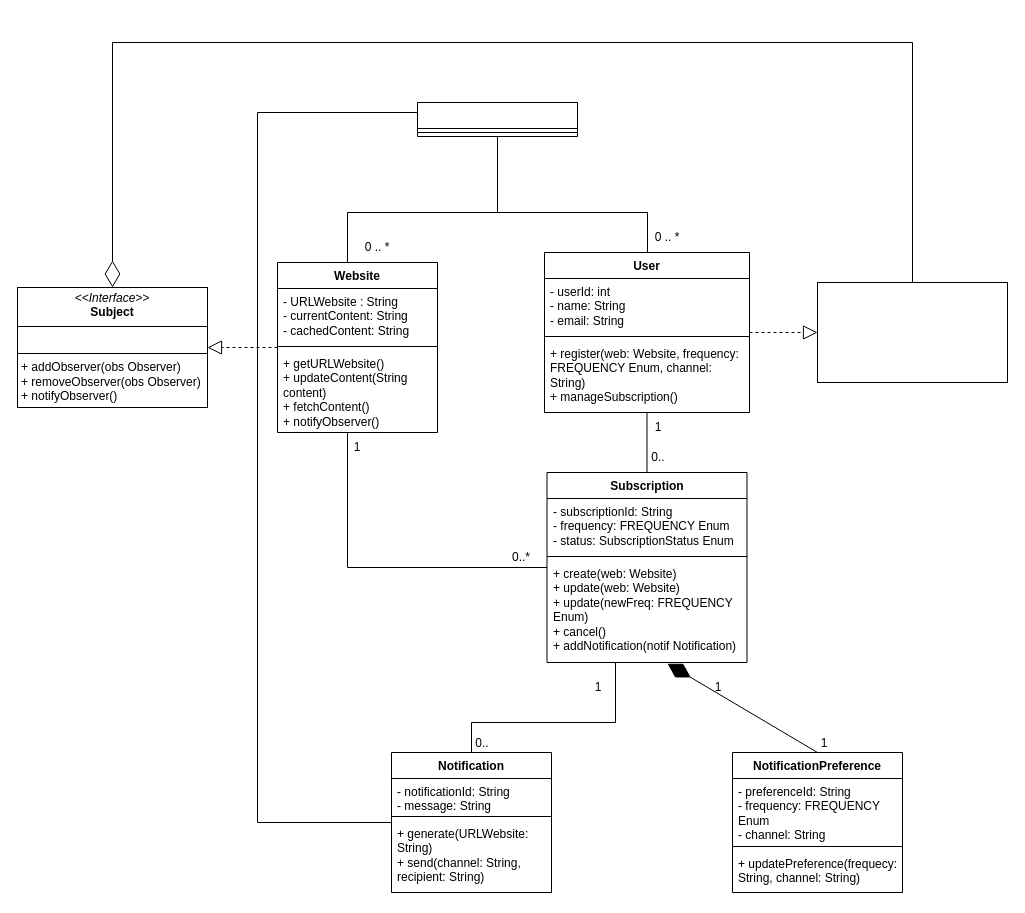
The diagram is 1025 pixels wide and 913 high, and some of its shapes have lost their labels. The shapes that lost their labels are listed below. From the top down, each one's centre as x and y in pixels, then its label:
the point at 497,119: System
the point at 912,332: <<Interface>> Observer + update(web: Website)
